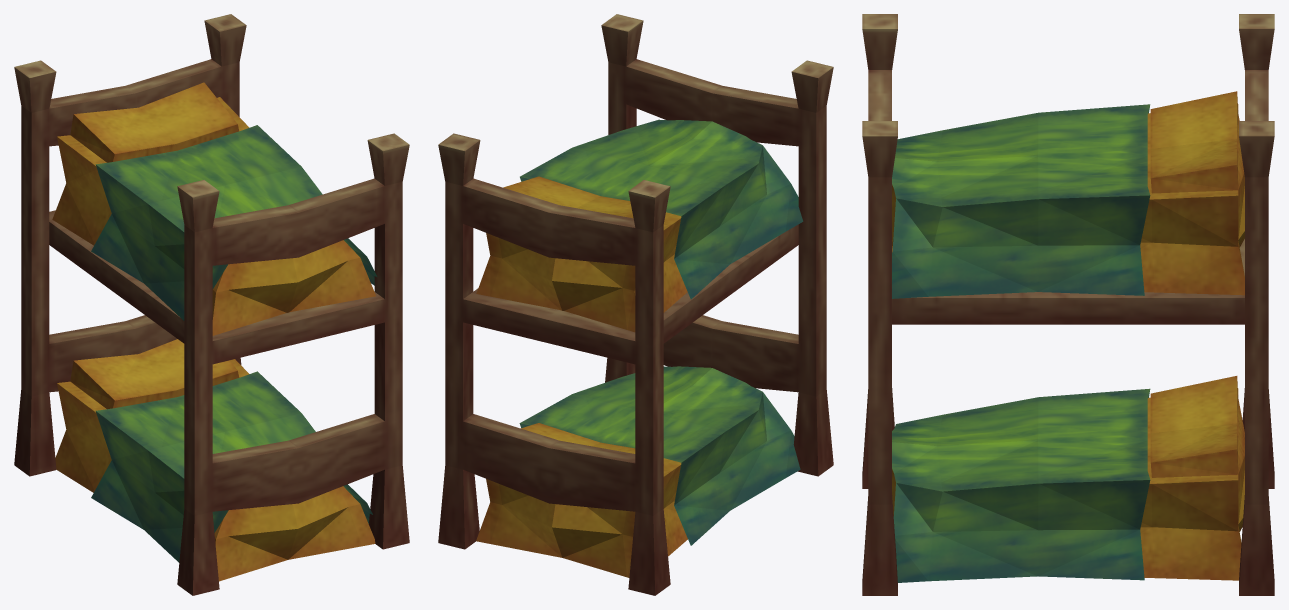
The model's file is bunkbed.fbx.
The picture shows the model from 3 angles, left to right: view 1: azimuth 30°, elevation 25°; view 2: azimuth 150°, elevation 25°; view 3: azimuth 270°, elevation 25°; orthographic projection. The views are drawn at different scales.
Visible parts, largest first — view 1: bed frame, bed.001, bed.002, covers.001, covers.002; view 2: bed frame, covers.001, covers.002, bed.001, bed.002; view 3: covers.001, covers.002, bed frame, bed.002, bed.001.
Boxes of the visible parts, x1,y1,x2,y2 form: bed frame: (14,14,409,595); bed.001: (52,82,375,335); bed.002: (55,339,375,581); covers.001: (91,125,377,320); covers.002: (91,371,372,562); bed frame: (438,14,833,595); covers.001: (520,119,803,299); covers.002: (519,366,800,545); bed.001: (476,176,687,332); bed.002: (476,423,687,577); covers.001: (892,104,1150,298); covers.002: (892,388,1150,582); bed frame: (862,14,1274,595); bed.002: (892,376,1244,580); bed.001: (892,91,1244,295).
Bounding box in the file's own units: 2427 × 4257 × 3460.
